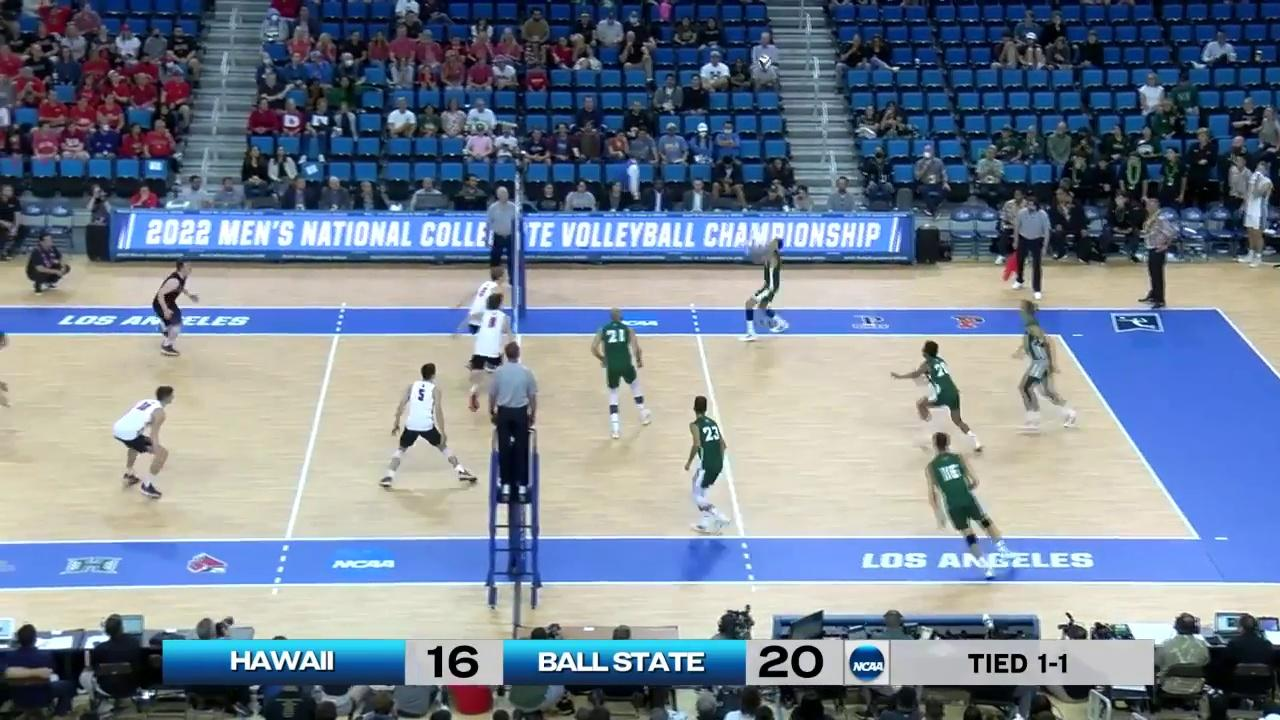player: (925, 432, 1009, 575), (380, 363, 471, 489), (895, 342, 985, 449), (1008, 299, 1077, 434), (593, 309, 651, 440), (683, 397, 735, 534), (112, 387, 174, 498), (468, 295, 514, 409), (740, 237, 787, 342), (463, 266, 510, 370), (152, 261, 199, 356)
refree: (479, 342, 541, 510), (1011, 198, 1050, 300), (486, 186, 524, 287)
